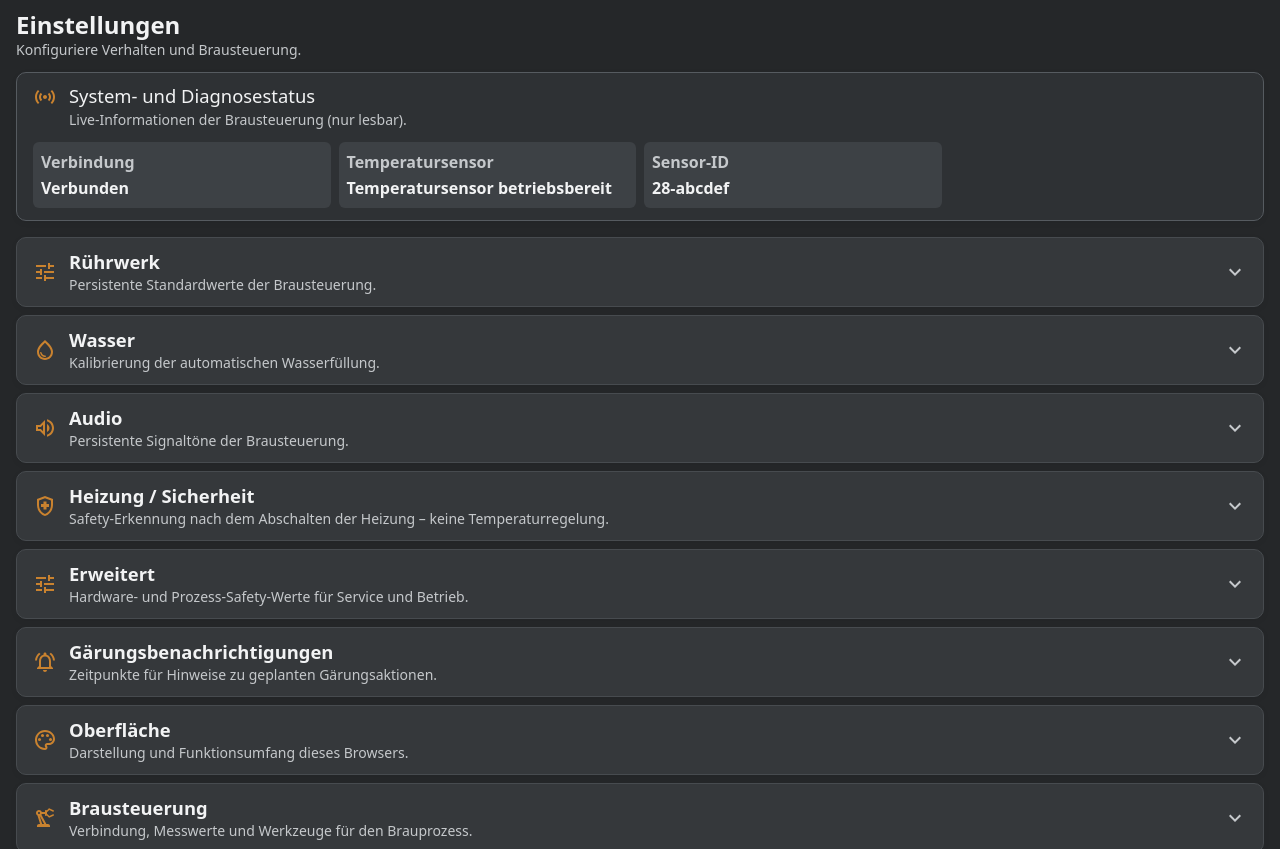
Test: Operational settings › separates read-only diagnostics from independently expandable settings
Expected: the heading "System- und Diagnosestatus" is shown, [69, 83, 315, 108]
Expected: the text "28-abcdef" is shown, [652, 177, 729, 199]
Click the button "Rührwerk Persistente Standardwerte der Brausteuerung.". click: (115, 261)
box: [17, 238, 1263, 306]
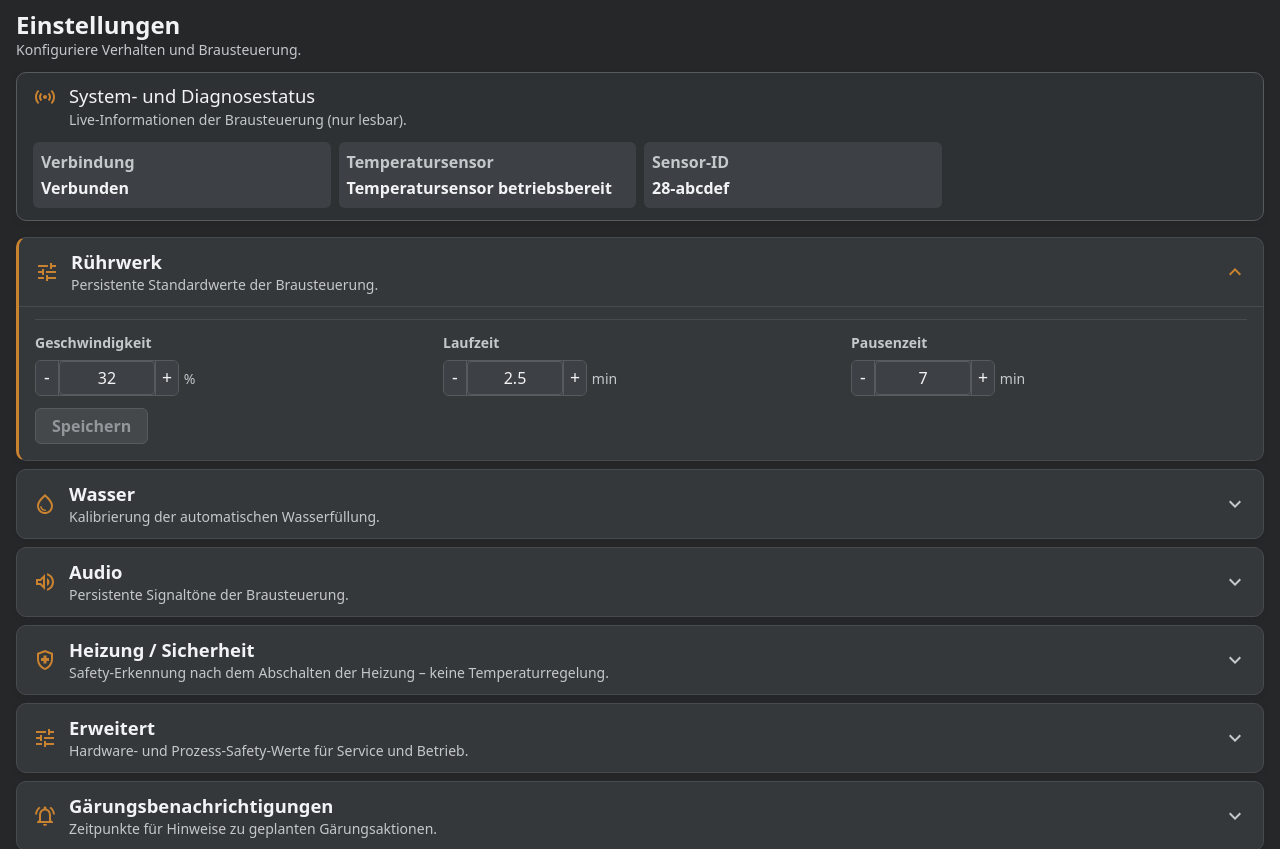
Click the button "Heizung / Sicherheit". click: (162, 649)
box: [17, 626, 1263, 694]
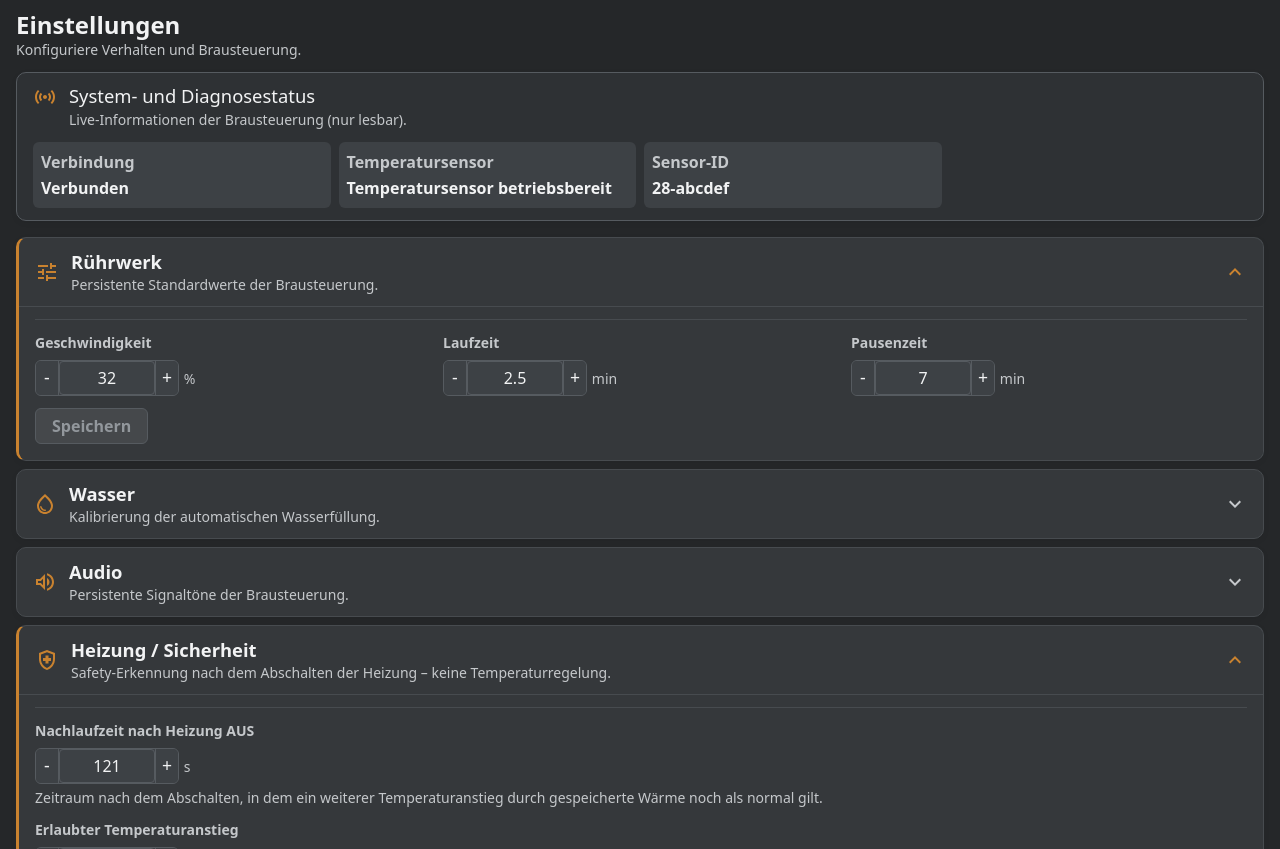
Now the button "Rührwerk Persistente Standardwerte der Brausteuerung." is expanded, box [19, 238, 1263, 306]
Now the button "Heizung / Sicherheit" is expanded, box [19, 626, 1263, 694]
